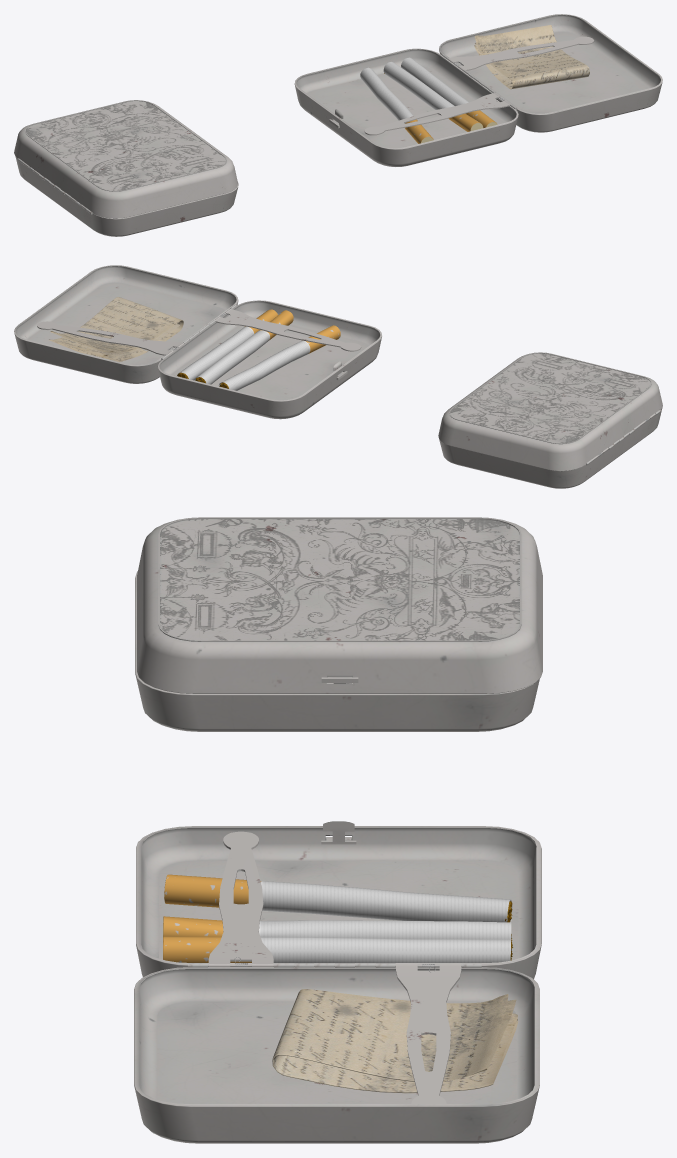
Rendered from cigarette_case.gltf.
3 renders of one model, top to bottom at view 1: azimuth 30°, elevation 25°; view 2: azimuth 150°, elevation 25°; view 3: azimuth 270°, elevation 25°, orthographic. The views are drawn at different scales.
Visible parts, largest first — view 1: cigarette_case, cigarette_case_cover_a, cigarette_case_cover_b, cigarette_case_note, cigarette_case_clip_a, cigarette_case_cigarette_b, cigarette_case_clip_b, cigarette_case_cigarette_a, cigarette_case_cigarette_c; view 2: cigarette_case, cigarette_case_cover_a, cigarette_case_cover_b, cigarette_case_note, cigarette_case_cigarette_a, cigarette_case_clip_a, cigarette_case_cigarette_b, cigarette_case_clip_b, cigarette_case_cigarette_c; view 3: cigarette_case, cigarette_case_cover_b, cigarette_case_cover_a, cigarette_case_note, cigarette_case_cigarette_a, cigarette_case_cigarette_c, cigarette_case_cigarette_b, cigarette_case_clip_b, cigarette_case_clip_a.
Boxes of the visible parts, bbox=[...] form: cigarette_case: bbox=[14, 100, 238, 236]; cigarette_case_cover_a: bbox=[294, 48, 518, 166]; cigarette_case_cover_b: bbox=[439, 14, 662, 132]; cigarette_case_note: bbox=[474, 25, 589, 89]; cigarette_case_clip_a: bbox=[364, 92, 510, 135]; cigarette_case_cigarette_b: bbox=[383, 62, 483, 131]; cigarette_case_clip_b: bbox=[447, 36, 594, 70]; cigarette_case_cigarette_a: bbox=[360, 67, 433, 143]; cigarette_case_cigarette_c: bbox=[401, 57, 497, 127]; cigarette_case: bbox=[438, 352, 662, 488]; cigarette_case_cover_a: bbox=[157, 300, 381, 419]; cigarette_case_cover_b: bbox=[14, 265, 238, 383]; cigarette_case_note: bbox=[49, 297, 183, 361]; cigarette_case_cigarette_a: bbox=[218, 325, 340, 390]; cigarette_case_clip_a: bbox=[214, 308, 361, 351]; cigarette_case_cigarette_b: bbox=[194, 310, 293, 384]; cigarette_case_clip_b: bbox=[37, 321, 184, 355]; cigarette_case_cigarette_c: bbox=[177, 309, 277, 380]; cigarette_case: bbox=[135, 517, 542, 731]; cigarette_case_cover_b: bbox=[134, 963, 539, 1143]; cigarette_case_cover_a: bbox=[136, 821, 541, 979]; cigarette_case_note: bbox=[272, 989, 518, 1093]; cigarette_case_cigarette_a: bbox=[164, 874, 512, 922]; cigarette_case_cigarette_c: bbox=[163, 936, 512, 962]; cigarette_case_cigarette_b: bbox=[163, 916, 512, 946]; cigarette_case_clip_b: bbox=[396, 964, 461, 1103]; cigarette_case_clip_a: bbox=[208, 831, 273, 966].
Bounding box in the file's own units: 0.3233 × 0.0245 × 0.1007.
1 material, 1 textured.
